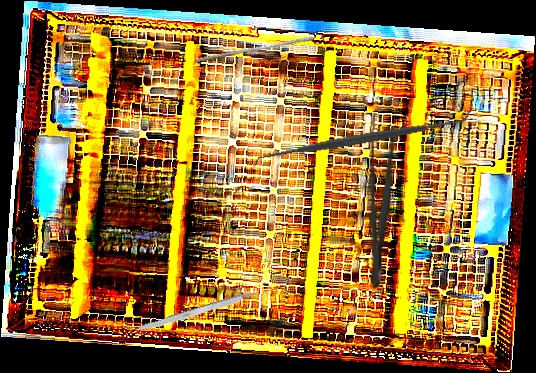Dressing Forceps: (361, 112, 397, 290)
Pusher: (194, 31, 315, 68)
Scalpel Handle: (132, 289, 260, 336)
Spatula Surgical: (249, 106, 477, 170)
